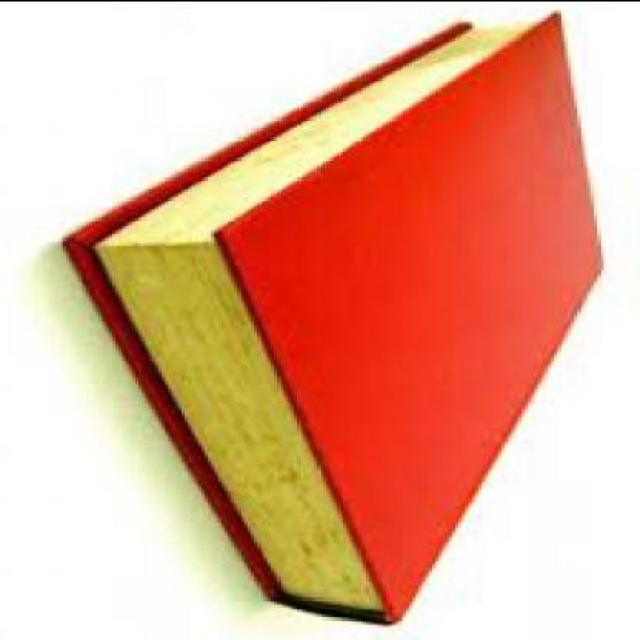PAPER: (65, 12, 607, 625)
